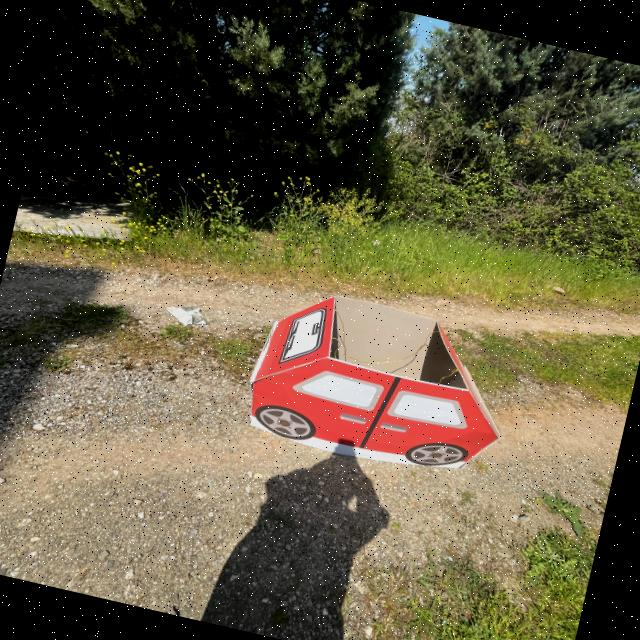red_car: (221, 260, 533, 514)
